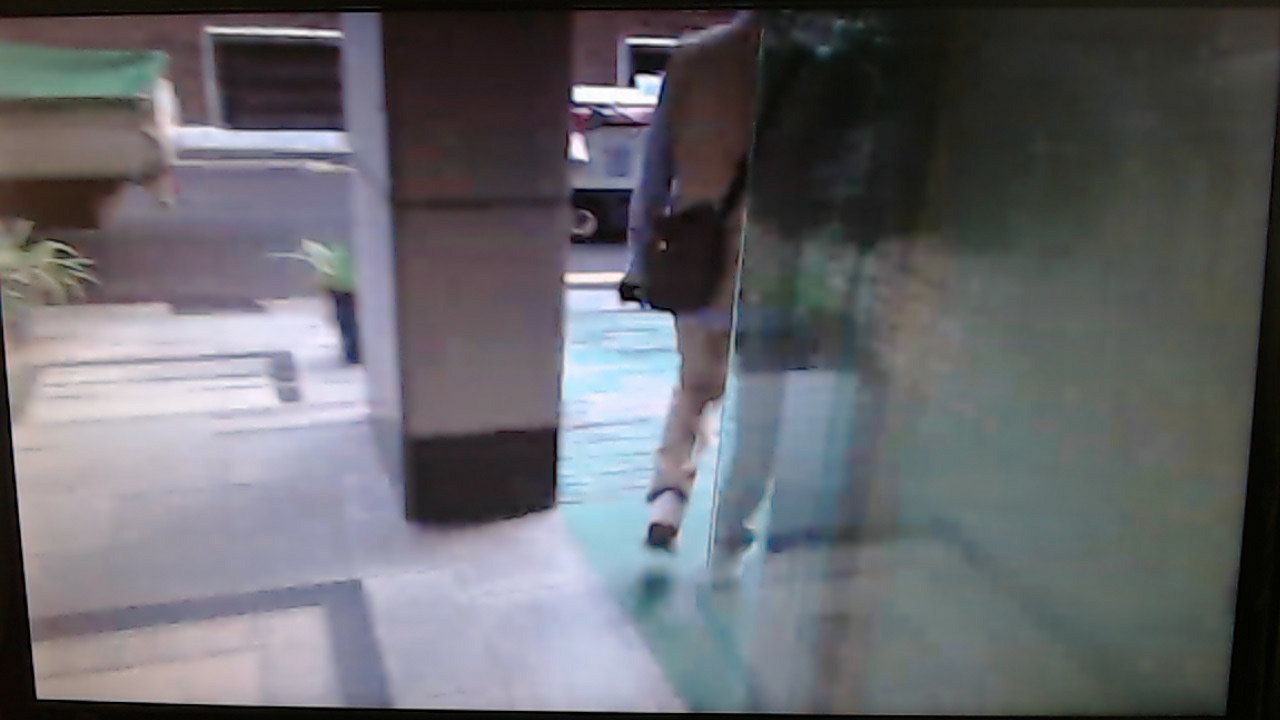Yakurut: (604, 11, 890, 575)
